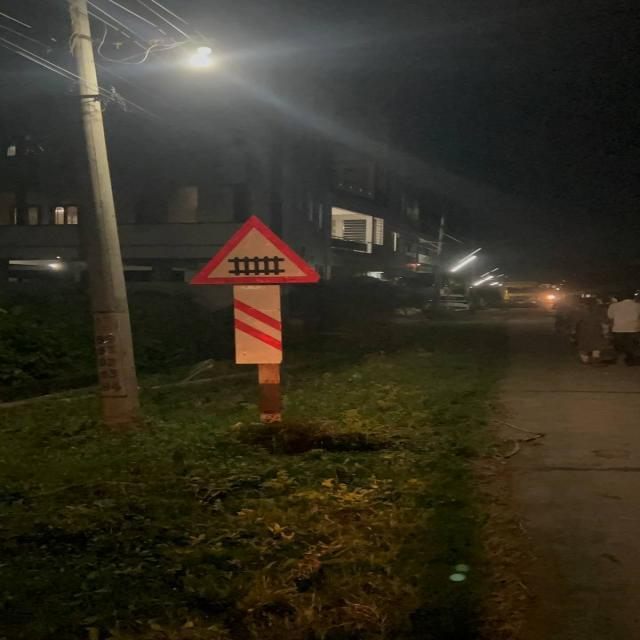guarded level crossing: (184, 213, 323, 288)
